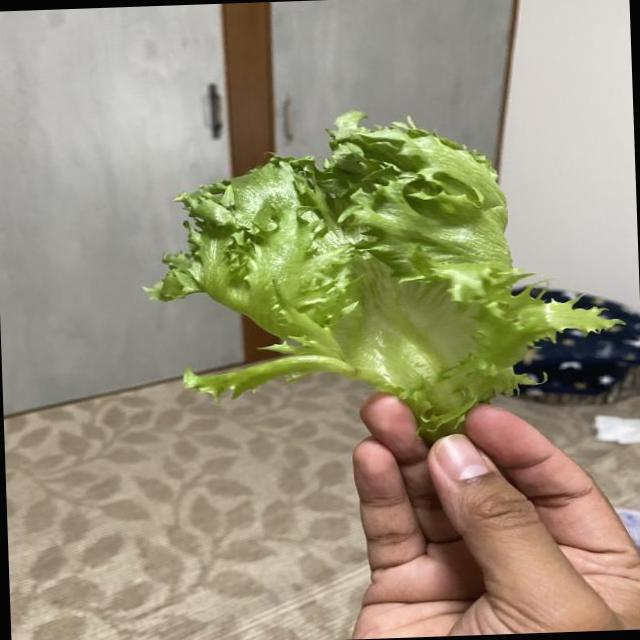Lettuce-Ready-to-Harvest: (148, 111, 615, 441)
